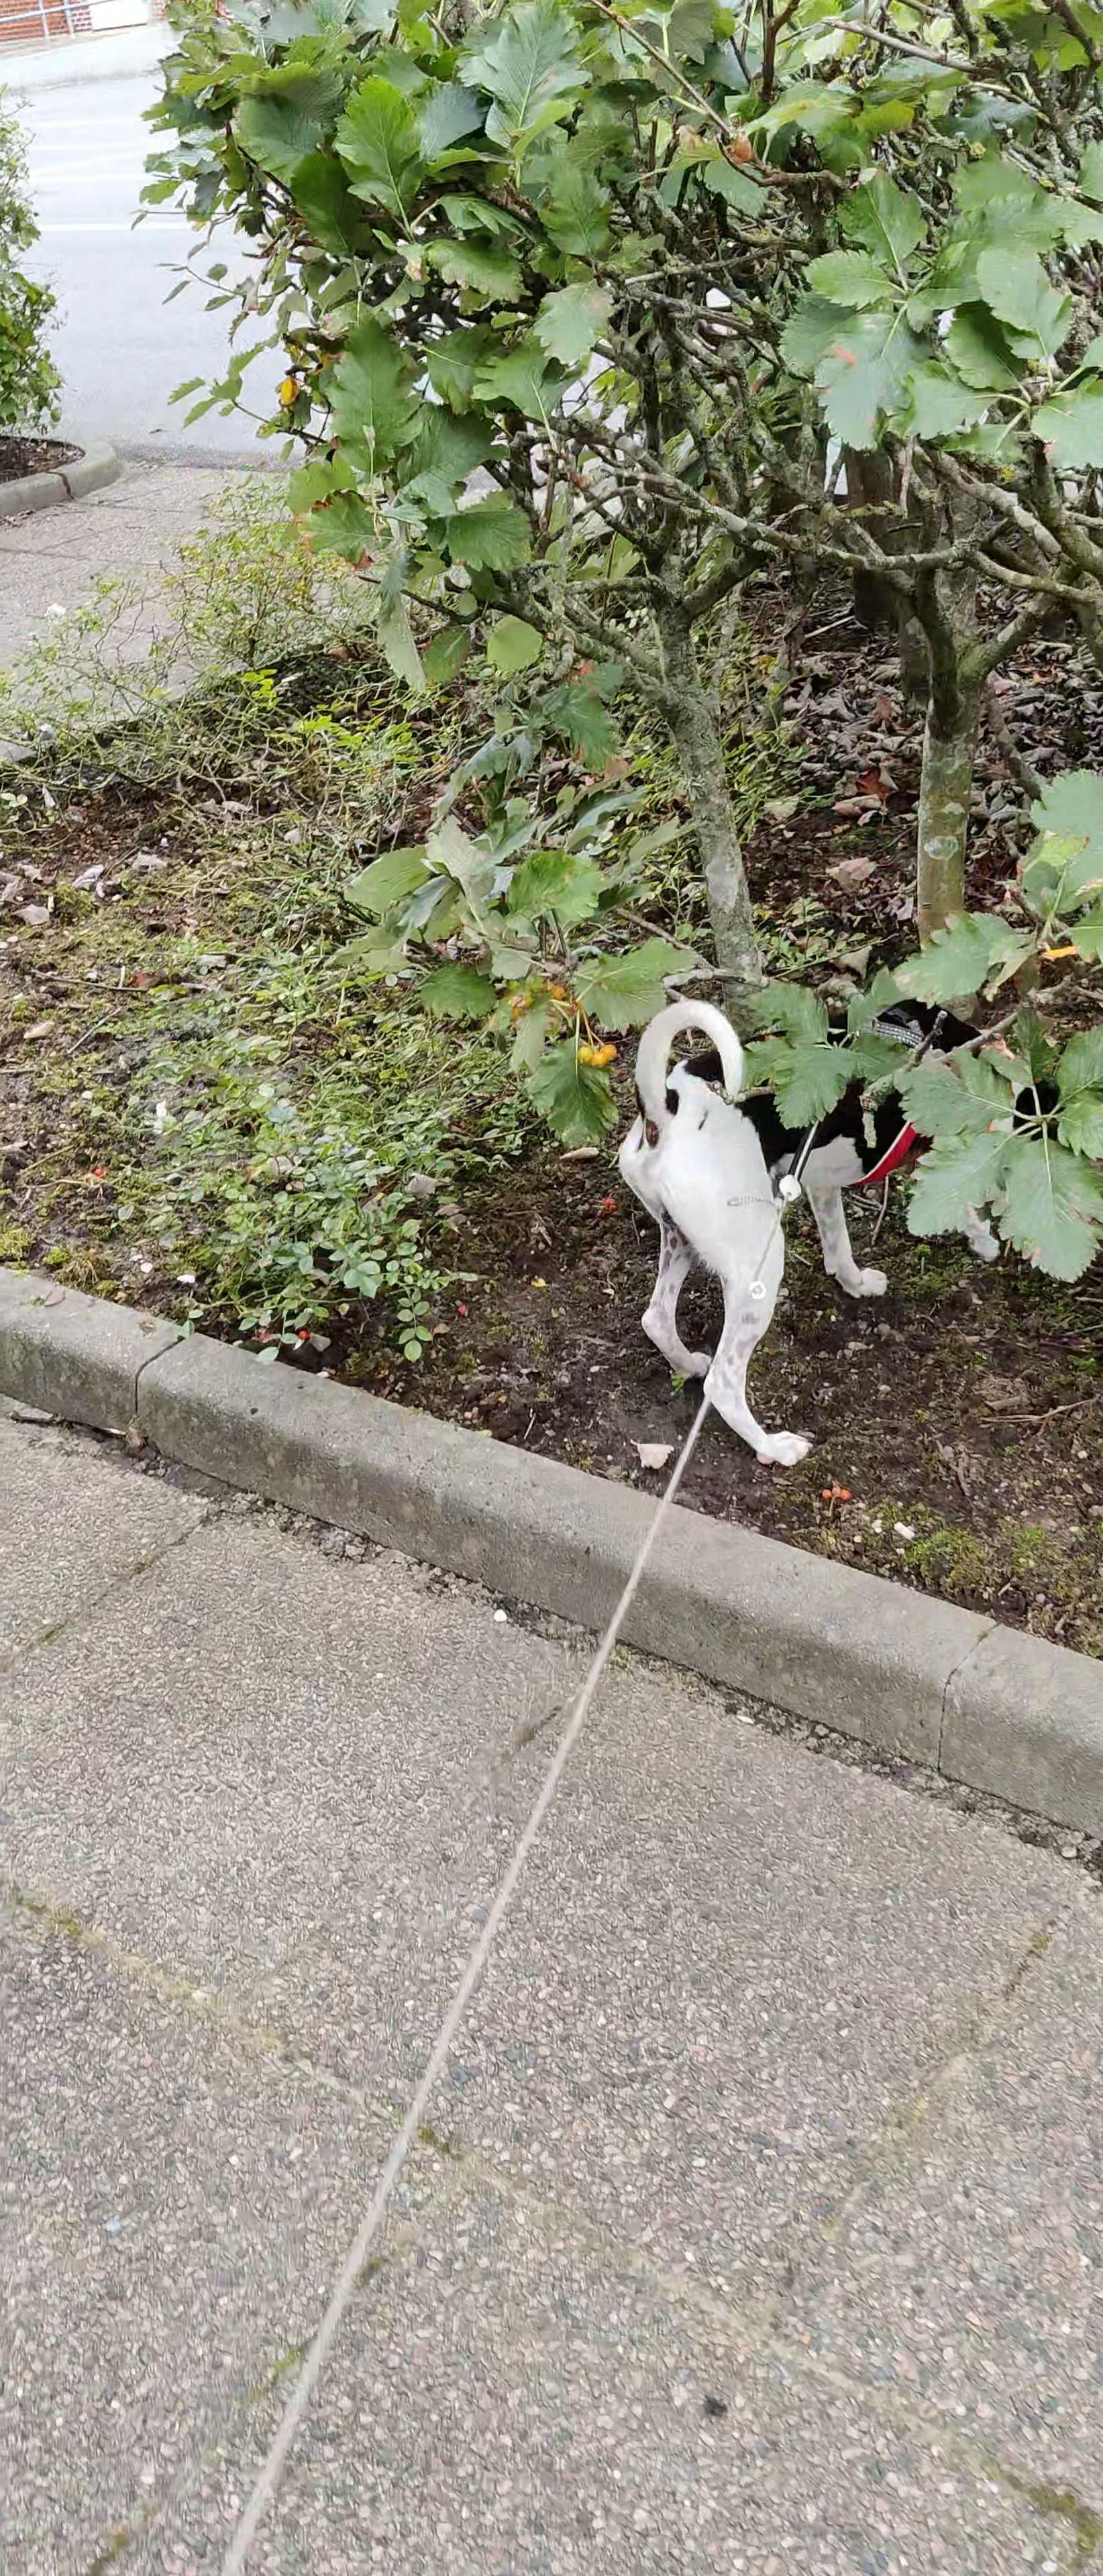Dog: (595, 958, 1073, 1477)
